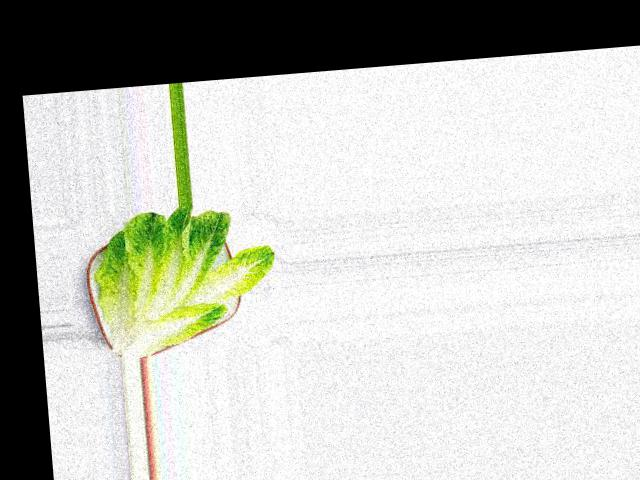lettuce: (137, 165, 292, 329)
